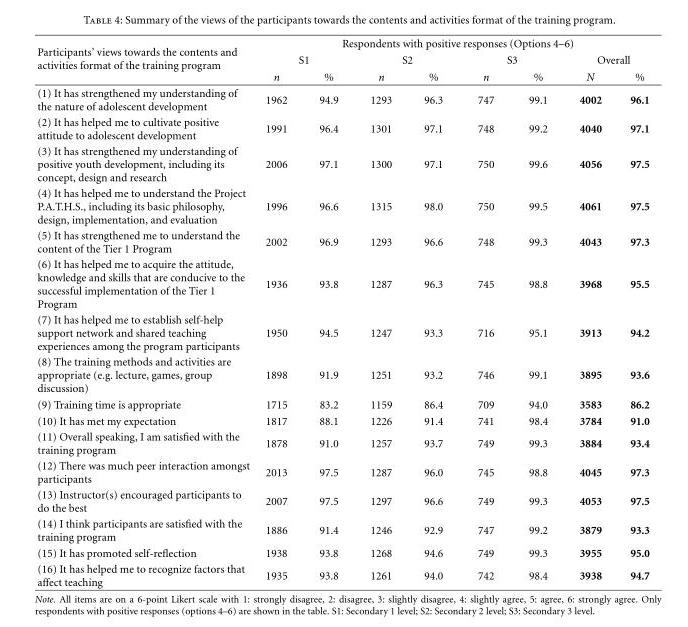table: (36, 37, 648, 587)
table column: (36, 37, 256, 587), (353, 37, 407, 587), (562, 37, 615, 587), (407, 37, 459, 587), (510, 37, 562, 587), (302, 37, 353, 587), (459, 37, 510, 587), (256, 37, 302, 587), (615, 37, 648, 587)
table column header: (36, 37, 648, 84)
table row: (36, 256, 648, 311), (36, 184, 648, 227), (36, 142, 648, 184), (36, 311, 648, 353), (36, 353, 648, 395), (36, 84, 648, 113), (36, 113, 648, 142), (36, 227, 648, 256), (36, 428, 648, 457), (36, 457, 648, 486), (36, 486, 648, 515), (36, 515, 648, 544), (36, 560, 648, 587), (36, 51, 648, 68), (36, 395, 648, 412), (36, 68, 648, 84), (36, 412, 648, 428), (36, 544, 648, 560), (36, 37, 648, 51)
table spanning cell: (36, 37, 256, 84), (256, 37, 648, 51), (353, 51, 459, 68), (459, 51, 562, 68), (256, 51, 353, 68), (562, 51, 648, 68)
